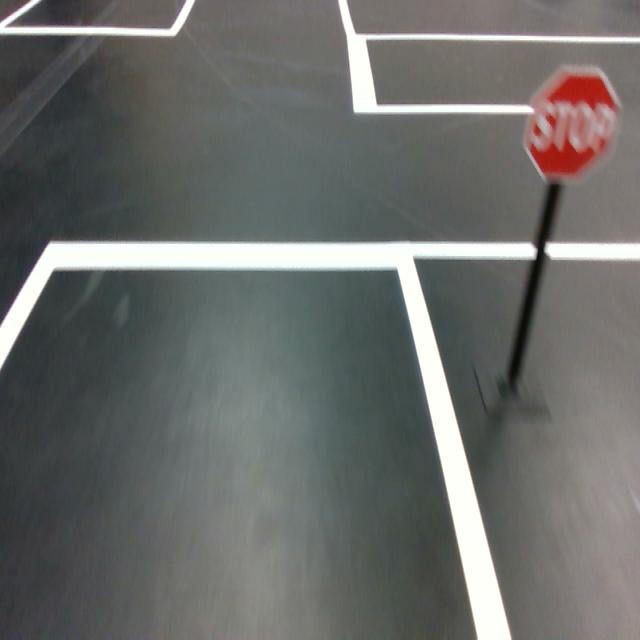stop-sign: (522, 64, 624, 188)
